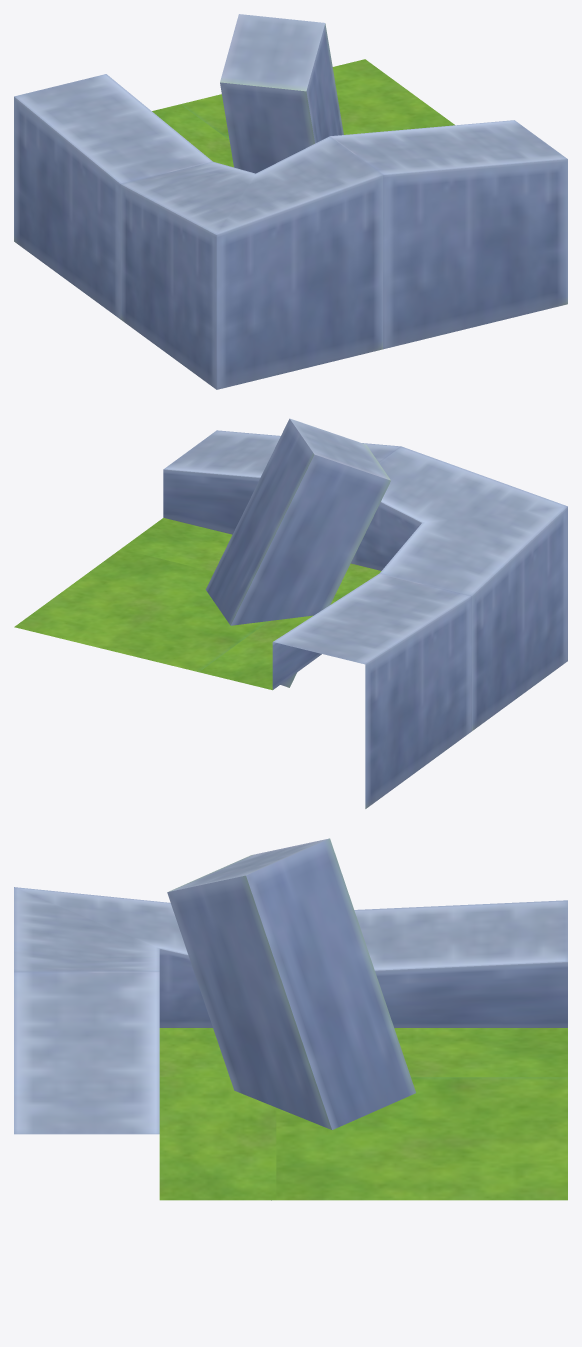
Rendered from stone_corner_deco.glb.
The picture shows the model from 3 angles, top to bottom: view 1: azimuth 30°, elevation 25°; view 2: azimuth 150°, elevation 25°; view 3: azimuth 270°, elevation 25°; orthographic projection. The views are drawn at different scales.
Parts seen in each view (by area): view 1: stone_corner_deco; view 2: stone_corner_deco; view 3: stone_corner_deco.
Part boxes in pixels (x1=…): stone_corner_deco: x1=14, y1=14, x2=567, y2=389; stone_corner_deco: x1=14, y1=418, x2=567, y2=808; stone_corner_deco: x1=14, y1=838, x2=567, y2=1200.
Bounding box in the file's own units: 1.9 × 1.33 × 1.9.
Materials: 1 (1 with a texture image).
